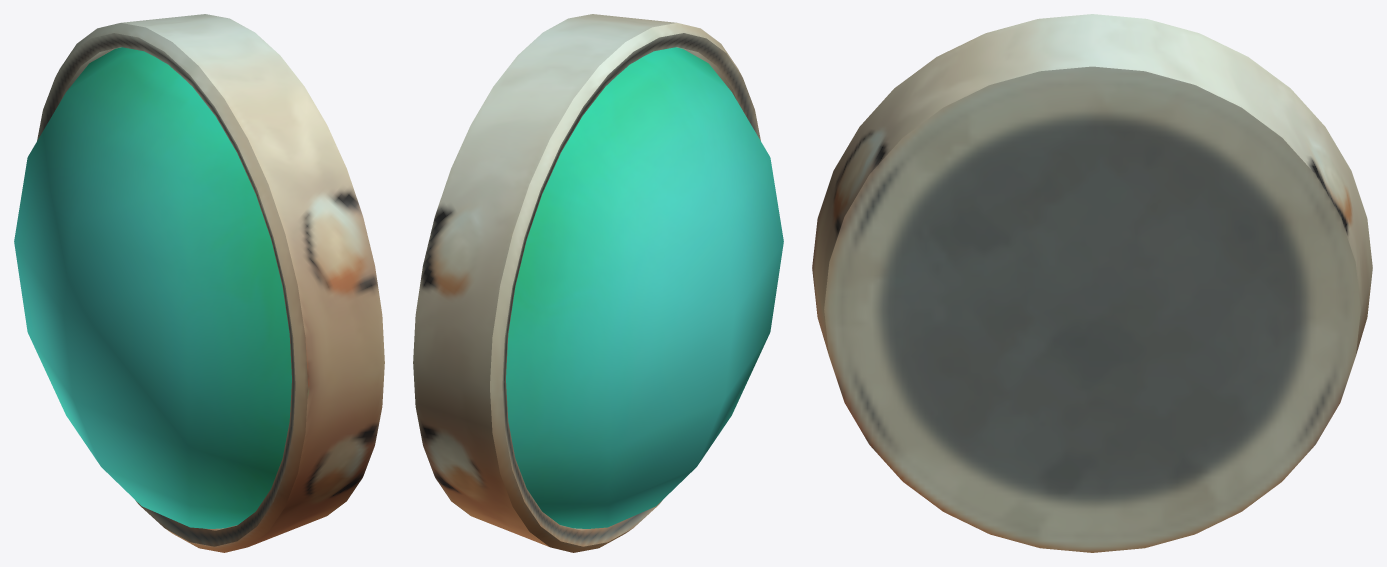
The model's file is SM_Gem_D_Bronze.fbx.
The picture shows the model from 3 angles, left to right: view 1: azimuth 30°, elevation 25°; view 2: azimuth 150°, elevation 25°; view 3: azimuth 270°, elevation 25°; orthographic projection. The views are drawn at different scales.
Visible parts, largest first — view 1: SM_Gem_D_Bronze_LOD0; view 2: SM_Gem_D_Bronze_LOD0; view 3: SM_Gem_D_Bronze_LOD0.
Part boxes in pixels (<box>): SM_Gem_D_Bronze_LOD0: <box>14,14,384,552</box>; SM_Gem_D_Bronze_LOD0: <box>413,14,783,552</box>; SM_Gem_D_Bronze_LOD0: <box>812,14,1372,552</box>.
Size of the model in its own units: 1.35 by 3.32 by 3.32.
Materials: 1 (1 with a texture image).
